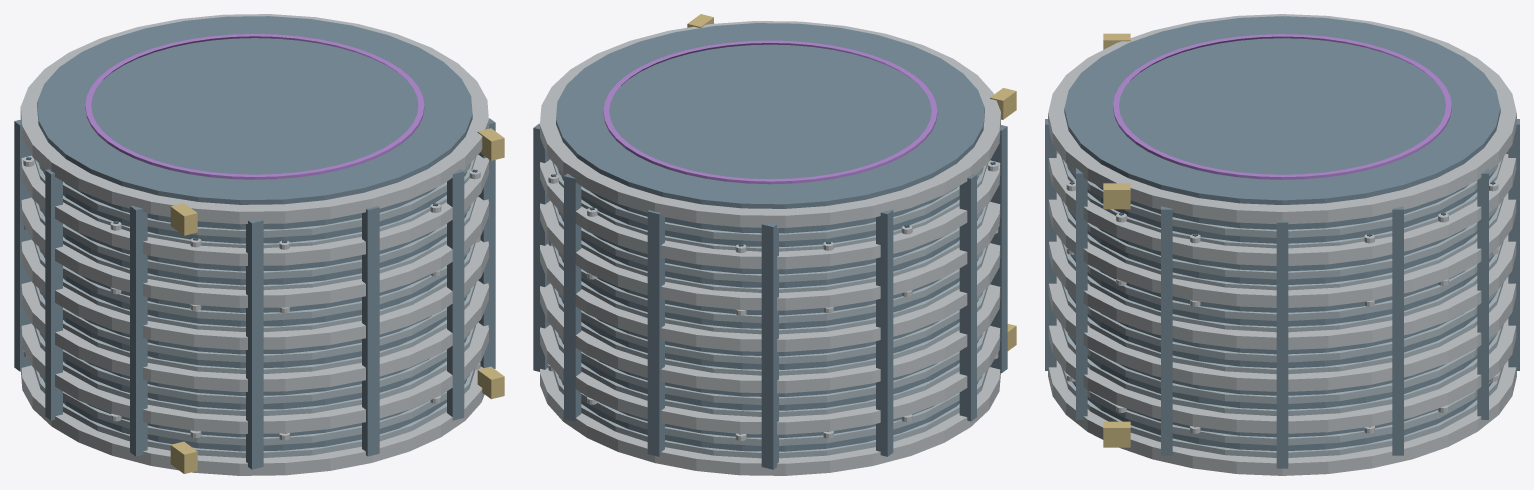
The model's file is 22_L74_ProjectionOpticsLensBarrel.glb.
The picture shows the model from 3 angles, left to right: view 1: azimuth 30°, elevation 25°; view 2: azimuth 150°, elevation 25°; view 3: azimuth 270°, elevation 25°; orthographic projection.
Parts seen in each view (by area): view 1: ProjectionOpticsLensBarrel_Node_0000, ProjectionOpticsLensBarrel_Node_0043, ProjectionOpticsLensBarrel_Node_0023, ProjectionOpticsLensBarrel_Node_0027, ProjectionOpticsLensBarrel_Node_0035, ProjectionOpticsLensBarrel_Node_0031, ProjectionOpticsLensBarrel_Node_0019, ProjectionOpticsLensBarrel_Node_0039, ProjectionOpticsLensBarrel_Node_0144, ProjectionOpticsLensBarrel_Node_0079, ProjectionOpticsLensBarrel_Node_0072, ProjectionOpticsLensBarrel_Node_0086 (+20 smaller); view 2: ProjectionOpticsLensBarrel_Node_0000, ProjectionOpticsLensBarrel_Node_0043, ProjectionOpticsLensBarrel_Node_0019, ProjectionOpticsLensBarrel_Node_0023, ProjectionOpticsLensBarrel_Node_0035, ProjectionOpticsLensBarrel_Node_0027, ProjectionOpticsLensBarrel_Node_0031, ProjectionOpticsLensBarrel_Node_0039, ProjectionOpticsLensBarrel_Node_0144, ProjectionOpticsLensBarrel_Node_0107, ProjectionOpticsLensBarrel_Node_0100, ProjectionOpticsLensBarrel_Node_0114 (+17 smaller); view 3: ProjectionOpticsLensBarrel_Node_0000, ProjectionOpticsLensBarrel_Node_0043, ProjectionOpticsLensBarrel_Node_0035, ProjectionOpticsLensBarrel_Node_0027, ProjectionOpticsLensBarrel_Node_0023, ProjectionOpticsLensBarrel_Node_0031, ProjectionOpticsLensBarrel_Node_0019, ProjectionOpticsLensBarrel_Node_0039, ProjectionOpticsLensBarrel_Node_0144, ProjectionOpticsLensBarrel_Node_0014, ProjectionOpticsLensBarrel_Node_0008, ProjectionOpticsLensBarrel_Node_0005 (+18 smaller).
Boxes of the visible parts, box(x1,y1,x2,y2) form: ProjectionOpticsLensBarrel_Node_0000: box(37, 16, 472, 451); ProjectionOpticsLensBarrel_Node_0043: box(20, 14, 488, 224); ProjectionOpticsLensBarrel_Node_0023: box(21, 322, 488, 433); ProjectionOpticsLensBarrel_Node_0027: box(21, 280, 488, 391); ProjectionOpticsLensBarrel_Node_0035: box(21, 196, 488, 307); ProjectionOpticsLensBarrel_Node_0031: box(21, 239, 488, 349); ProjectionOpticsLensBarrel_Node_0019: box(21, 365, 484, 475); ProjectionOpticsLensBarrel_Node_0039: box(21, 154, 488, 266); ProjectionOpticsLensBarrel_Node_0144: box(85, 34, 424, 179); ProjectionOpticsLensBarrel_Node_0079: box(246, 220, 263, 469); ProjectionOpticsLensBarrel_Node_0072: box(362, 206, 379, 456); ProjectionOpticsLensBarrel_Node_0086: box(130, 205, 147, 456); ProjectionOpticsLensBarrel_Node_0000: box(556, 23, 984, 451); ProjectionOpticsLensBarrel_Node_0043: box(540, 21, 1000, 227); ProjectionOpticsLensBarrel_Node_0019: box(540, 367, 1000, 475); ProjectionOpticsLensBarrel_Node_0023: box(540, 324, 1000, 434); ProjectionOpticsLensBarrel_Node_0035: box(540, 200, 1000, 310); ProjectionOpticsLensBarrel_Node_0027: box(540, 283, 1000, 393); ProjectionOpticsLensBarrel_Node_0031: box(540, 243, 1000, 351); ProjectionOpticsLensBarrel_Node_0039: box(540, 159, 1000, 269); ProjectionOpticsLensBarrel_Node_0144: box(603, 40, 937, 184); ProjectionOpticsLensBarrel_Node_0107: box(761, 224, 778, 469); ProjectionOpticsLensBarrel_Node_0100: box(876, 209, 893, 456); ProjectionOpticsLensBarrel_Node_0114: box(647, 210, 664, 456); ProjectionOpticsLensBarrel_Node_0000: box(1064, 16, 1500, 450); ProjectionOpticsLensBarrel_Node_0043: box(1048, 14, 1516, 224); ProjectionOpticsLensBarrel_Node_0035: box(1048, 192, 1516, 307); ProjectionOpticsLensBarrel_Node_0027: box(1048, 276, 1516, 391); ProjectionOpticsLensBarrel_Node_0023: box(1048, 318, 1516, 433); ProjectionOpticsLensBarrel_Node_0031: box(1048, 234, 1516, 349); ProjectionOpticsLensBarrel_Node_0019: box(1048, 360, 1516, 475); ProjectionOpticsLensBarrel_Node_0039: box(1048, 153, 1516, 265); ProjectionOpticsLensBarrel_Node_0144: box(1113, 34, 1451, 179); ProjectionOpticsLensBarrel_Node_0014: box(1067, 206, 1497, 279); ProjectionOpticsLensBarrel_Node_0008: box(1067, 290, 1497, 362); ProjectionOpticsLensBarrel_Node_0005: box(1067, 332, 1497, 403).
Bounding box in the file's own units: 2.45 × 1.56 × 2.44.
